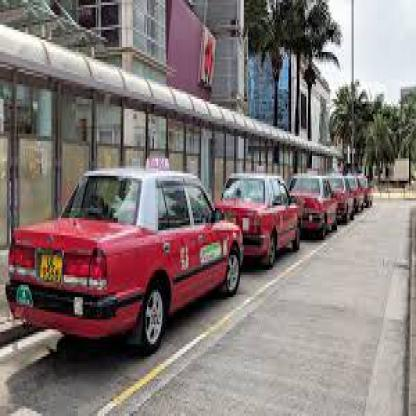taxi: (5, 155, 248, 358), (291, 167, 341, 236)
